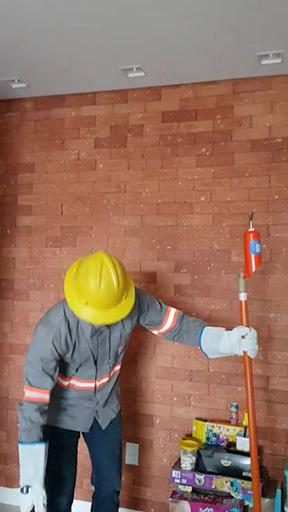Detector_Tensao_Contato: (243, 210, 265, 281)
Vara_Manobra: (236, 277, 261, 512)
